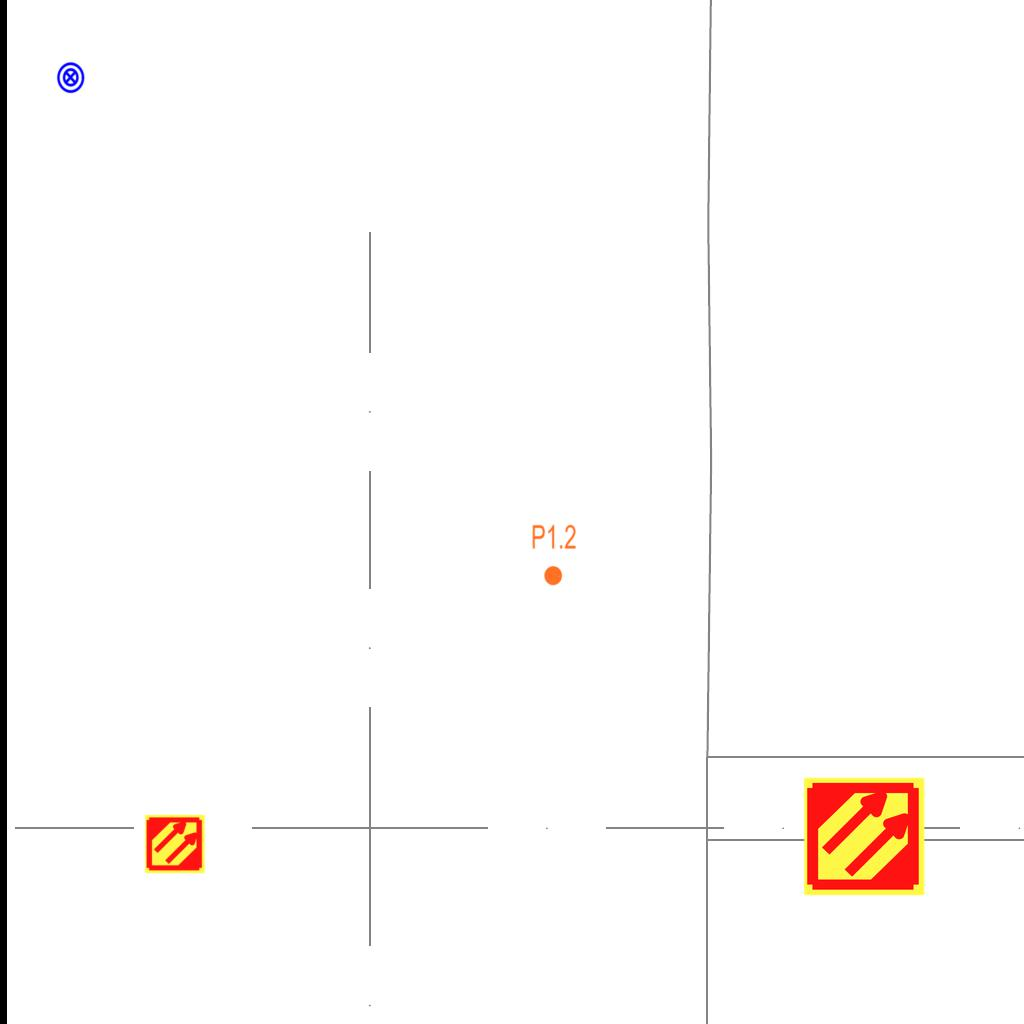ASR_Ansaugrauchmelder: (802, 774, 927, 899), (144, 813, 206, 875)
Downlight_LED_Einbauleuchten_Flur: (531, 523, 577, 587)
Taster_beleuchtet: (54, 61, 87, 94)
